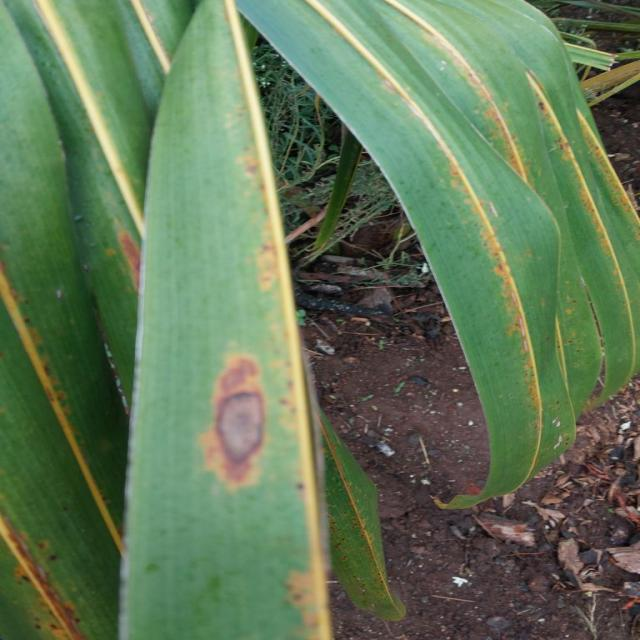gray leaf spot: (184, 319, 306, 544)
